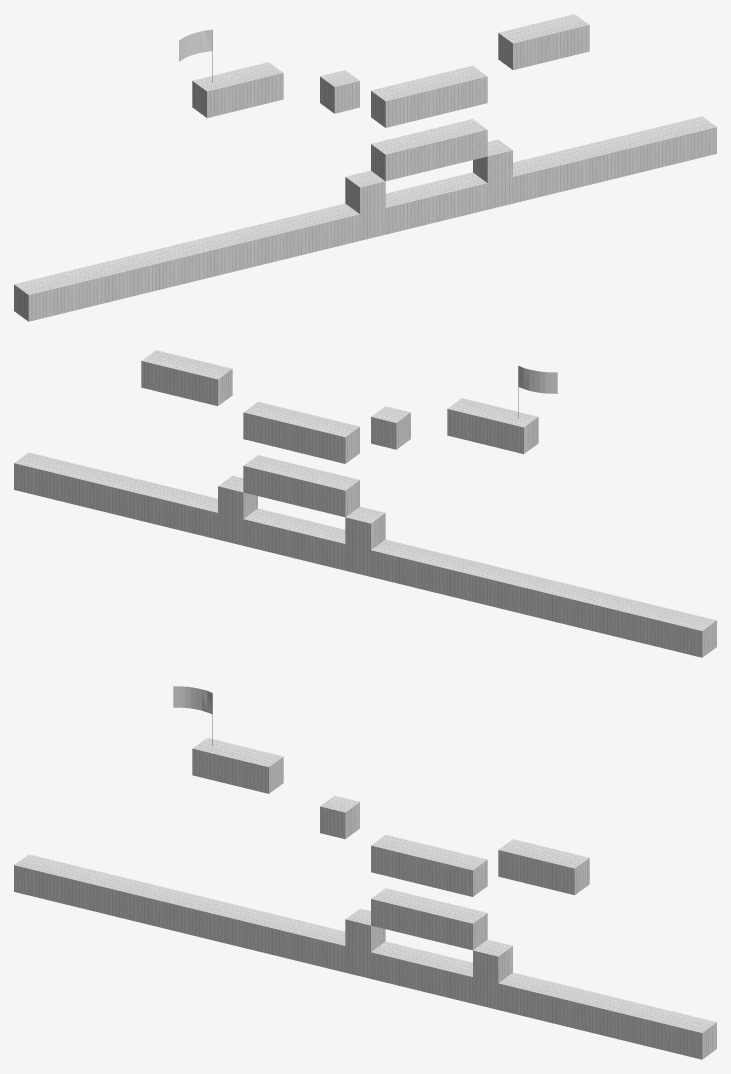
File: DemoViewStage5.obj
3 renders of one model, top to bottom at view 1: azimuth 30°, elevation 25°; view 2: azimuth 150°, elevation 25°; view 3: azimuth 330°, elevation 25°, orthographic.
Visible parts, largest first — view 1: 平面.001; view 2: 平面.001; view 3: 平面.001.
Boxes of the visible parts, x1,y1,x2,y2 form: 平面.001: (14, 14, 716, 321); 平面.001: (14, 350, 716, 657); 平面.001: (14, 686, 716, 1059).
Bounding box in the file's own units: 54 × 18 × 2.
1 material, 1 textured.
